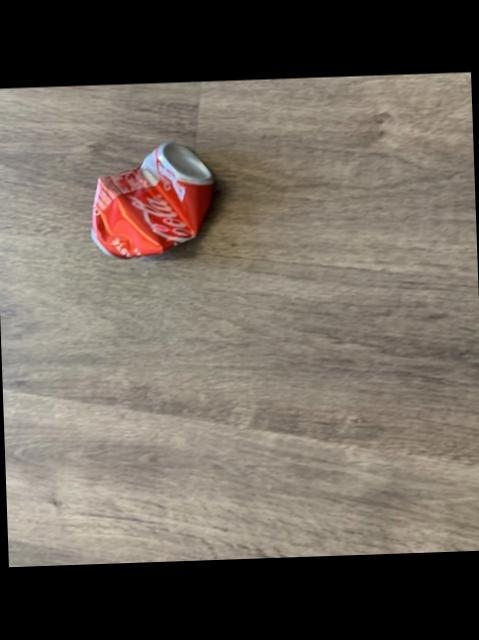metal: (92, 142, 214, 257)
